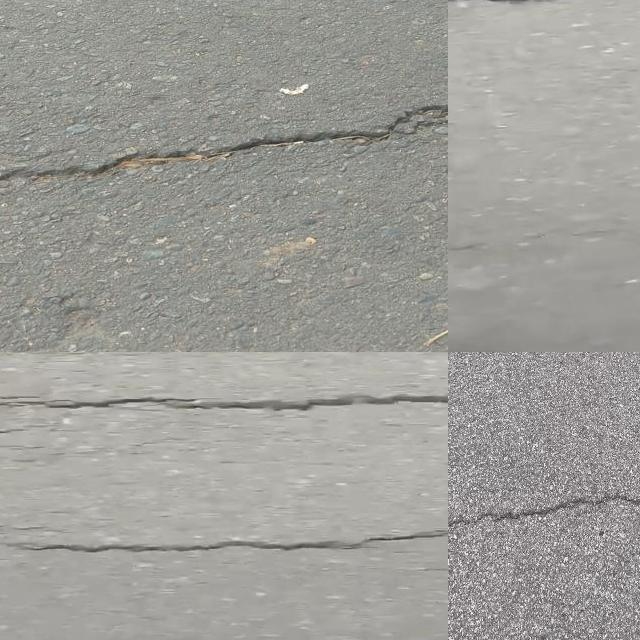Melintang: (0, 89, 448, 197), (0, 377, 448, 429), (0, 518, 448, 569), (448, 479, 640, 538)
